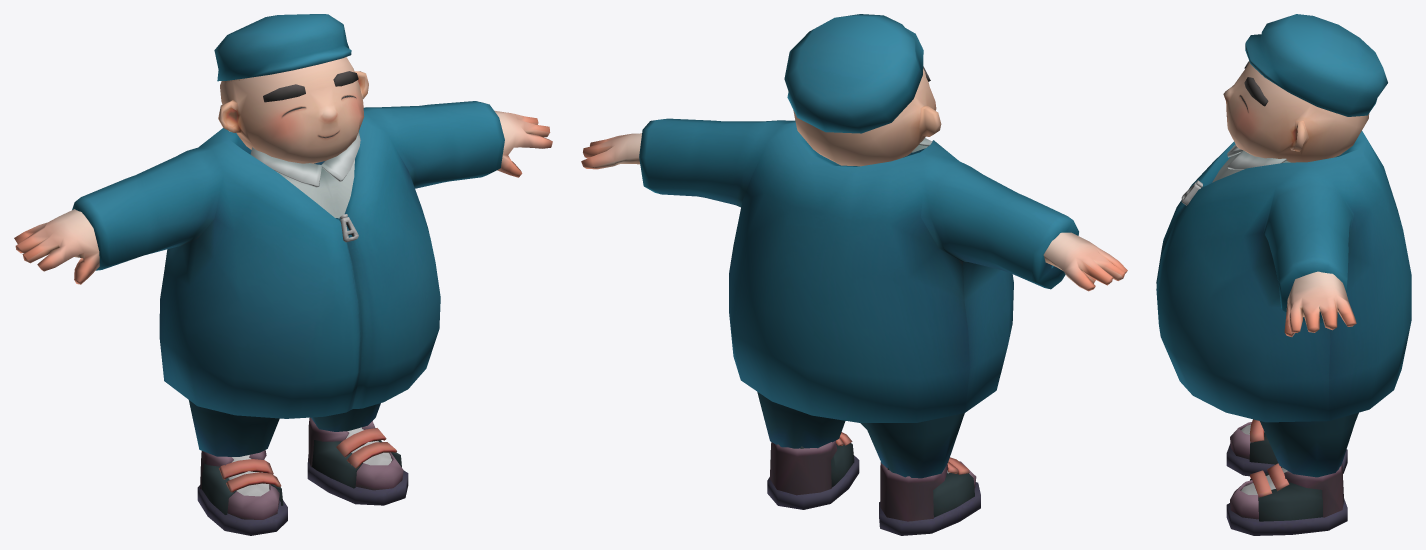
Rendered from fat_man.fbx.
3 views of the same model, side by side, from view 1: azimuth 30°, elevation 25°; view 2: azimuth 150°, elevation 25°; view 3: azimuth 270°, elevation 25° (orthographic). The views are drawn at different scales.
Parts seen in each view (by area): view 1: fat_man; view 2: fat_man; view 3: fat_man.
Boxes of the visible parts, x1=… form: fat_man: x1=14, y1=14, x2=552, y2=535; fat_man: x1=581, y1=14, x2=1127, y2=535; fat_man: x1=1156, y1=14, x2=1411, y2=535.
Bounding box in the file's own units: 377 × 324 × 161.
